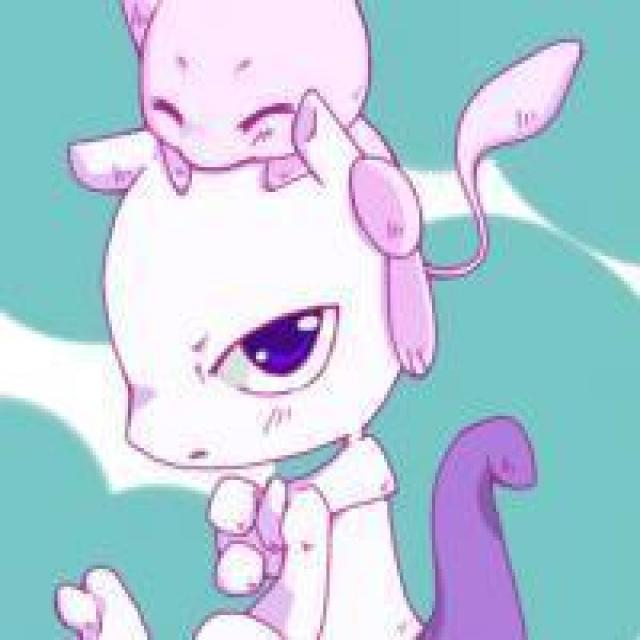Mew: (121, 0, 594, 213)
